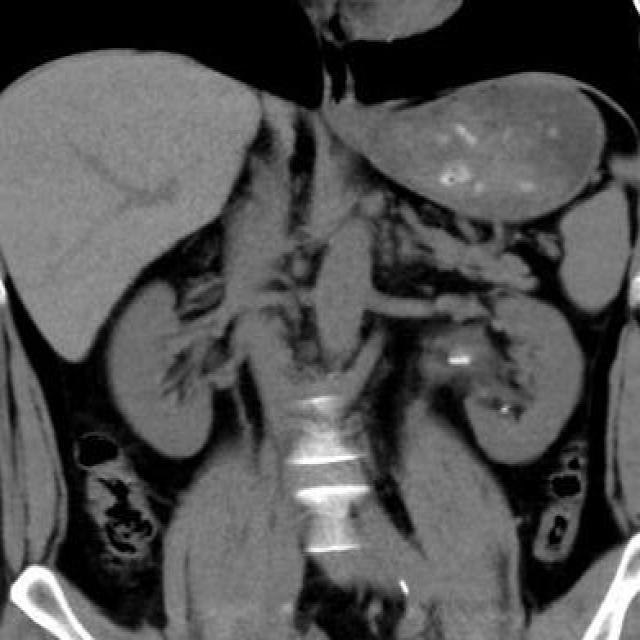Tas_Var: (446, 353, 474, 367), (498, 404, 515, 414)
